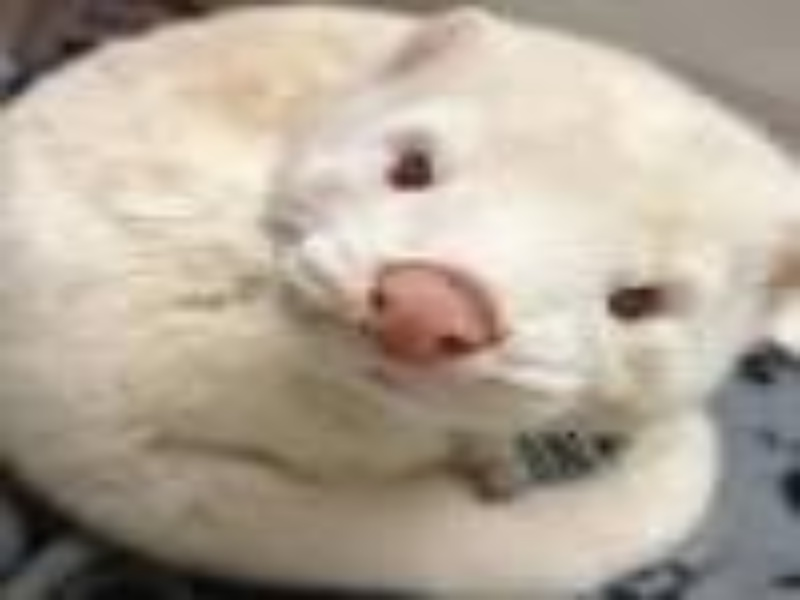minkish: (7, 16, 793, 584)
